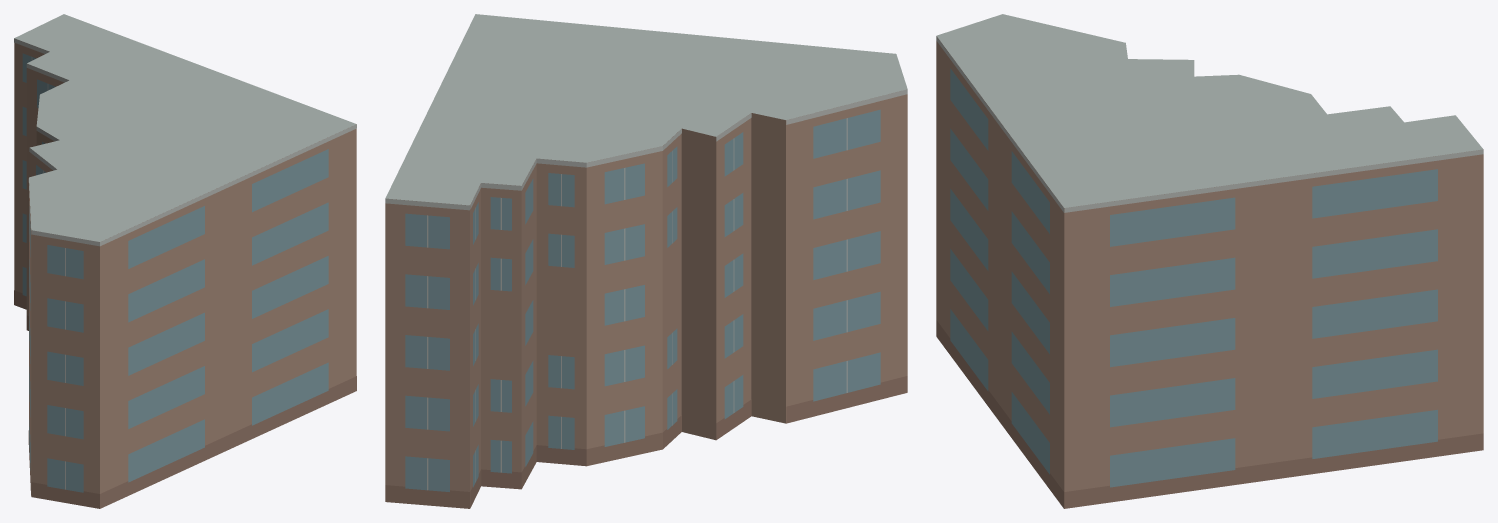
The model's file is survey-upis-32767441.glb.
3 renders of one model, left to right at view 1: azimuth 30°, elevation 25°; view 2: azimuth 150°, elevation 25°; view 3: azimuth 270°, elevation 25°, orthographic. The views are drawn at different scales.
Visible parts, largest first — view 1: survey-upis-32767441.tmp; view 2: survey-upis-32767441.tmp; view 3: survey-upis-32767441.tmp.
Part boxes in pixels (x1=…): survey-upis-32767441.tmp: x1=14, y1=14, x2=356, y2=508; survey-upis-32767441.tmp: x1=385, y1=14, x2=907, y2=508; survey-upis-32767441.tmp: x1=936, y1=14, x2=1483, y2=508.
Size of the model in its own units: 21.02 by 15.18 by 25.04.
